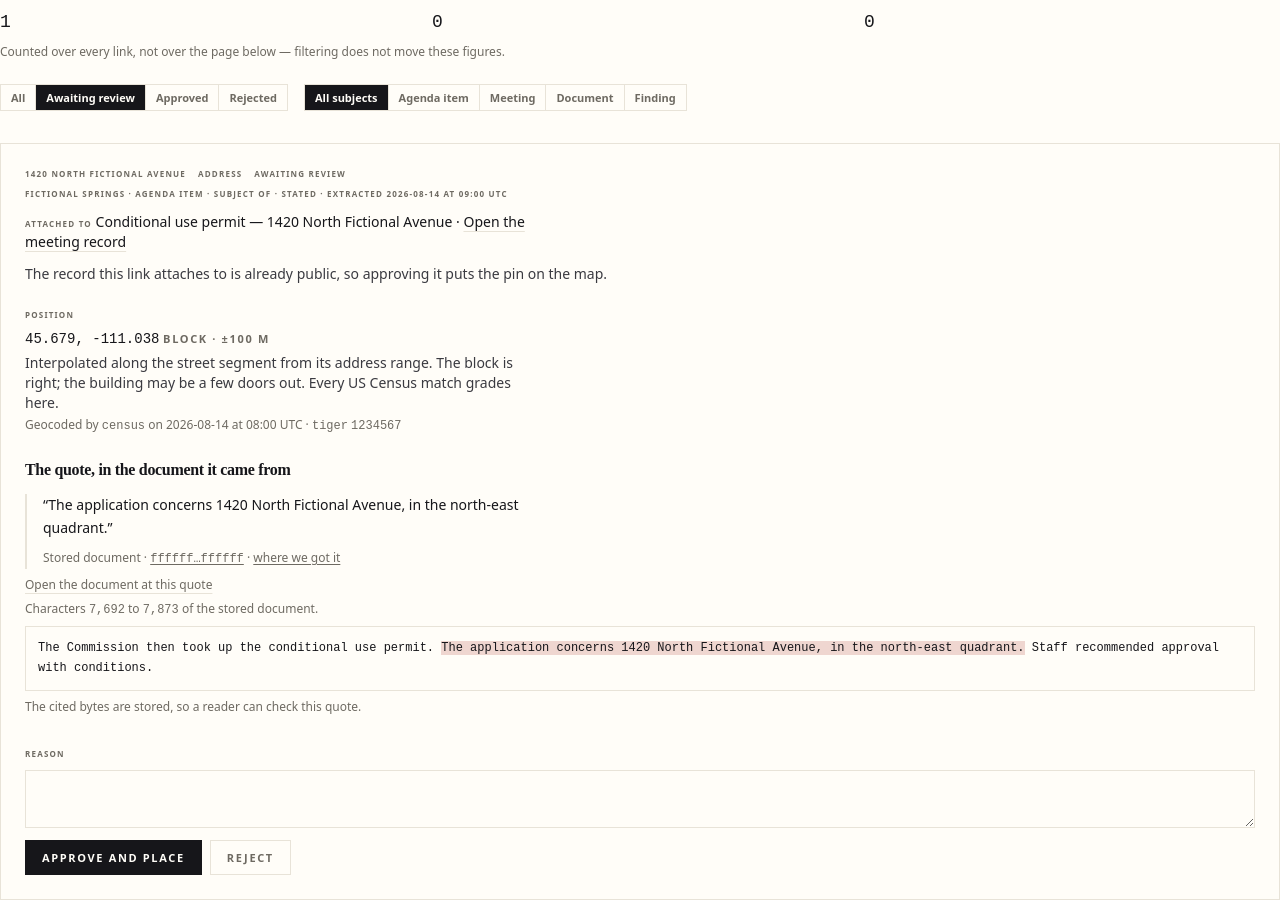
Test case: AdminPlaceLinksPage › repeats the API's refusal verbatim rather than paraphrasing it
(page scrolled)
In the text box labelled "Reason": (640, 799) [25,770,1255,828], type "Looks right."
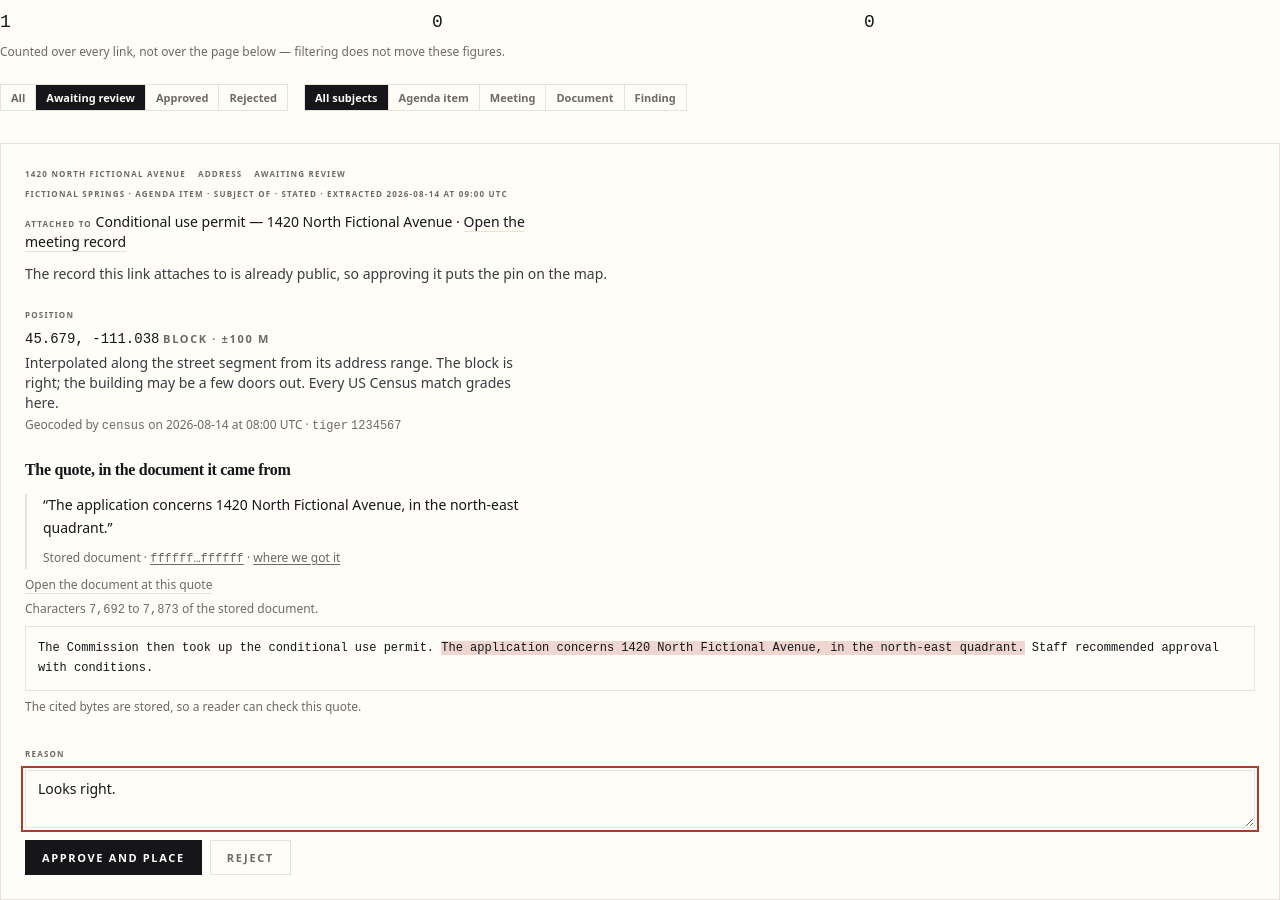
Click the button "Approve and place": (113, 858) [25,840,202,875]
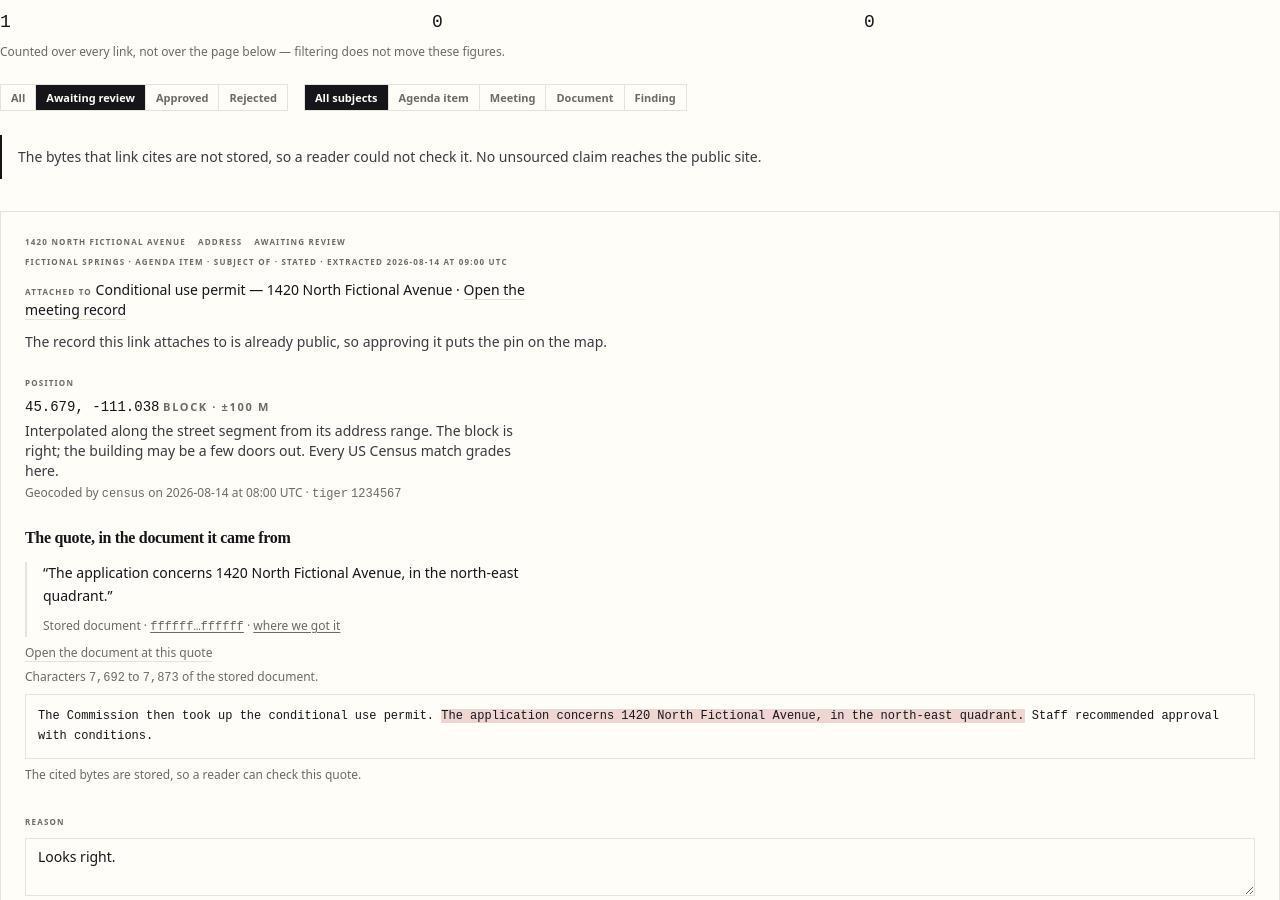
expect the message shows "No unsourced claim reaches the public site.": met, box [18,147,762,166]
